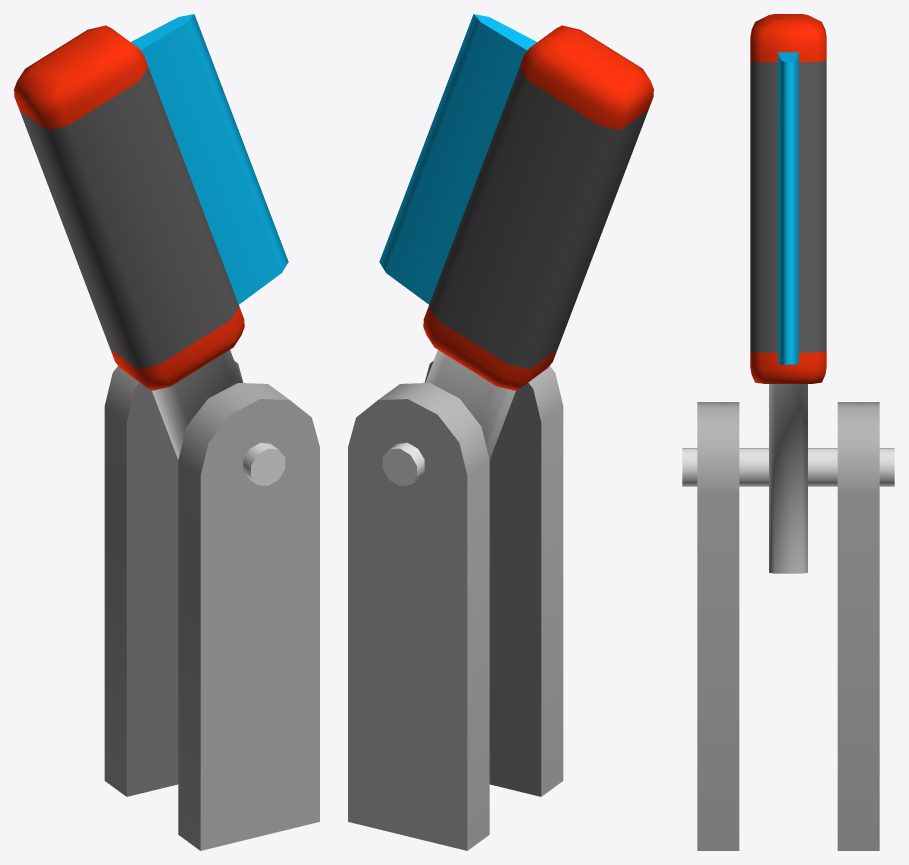
Rendered from KnifeOneSideAnimation.fbx.
The picture shows the model from 3 angles, left to right: view 1: azimuth 30°, elevation 25°; view 2: azimuth 150°, elevation 25°; view 3: azimuth 270°, elevation 25°; orthographic projection. The views are drawn at different scales.
Visible parts, largest first — view 1: knife handle, knife; view 2: knife handle, knife; view 3: knife handle, knife.
Boxes of the visible parts, left/top/right/bottom form: knife handle: left=104, top=360, right=319, bottom=850; knife: left=14, top=14, right=288, bottom=459; knife handle: left=348, top=360, right=563, bottom=850; knife: left=379, top=14, right=653, bottom=459; knife handle: left=682, top=402, right=894, bottom=850; knife: left=750, top=14, right=826, bottom=573.
Size of the model in its own units: 2.19 by 6.34 by 1.62.
